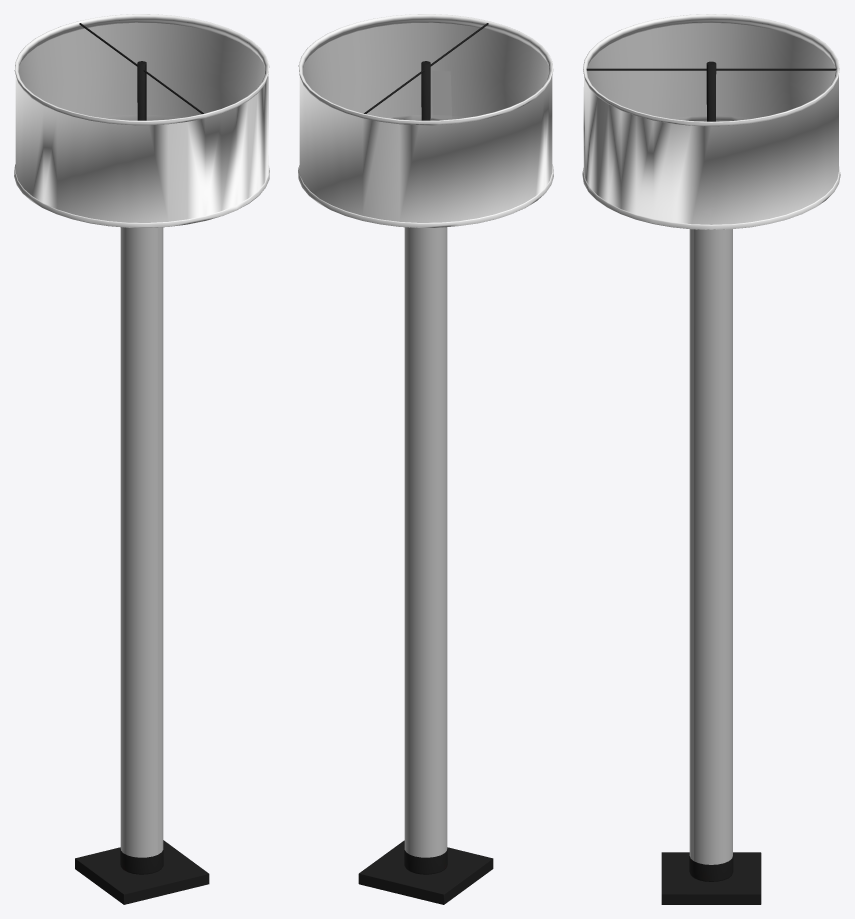
3 renders of one model, left to right at view 1: azimuth 30°, elevation 25°; view 2: azimuth 150°, elevation 25°; view 3: azimuth 270°, elevation 25°, orthographic.
Parts seen in each view (by area): view 1: "$AGAEMNKKMGBAAAAAICBAAAAAAAAAJJNLHOOE"; view 2: "$AGAEMNKKMGBAAAAAICBAAAAAAAAAJJNLHOOE"; view 3: "$AGAEMNKKMGBAAAAAICBAAAAAAAAAJJNLHOOE".
Boxes of the visible parts, x1,y1,x2,y2 form: "$AGAEMNKKMGBAAAAAICBAAAAAAAAAJJNLHOOE": (14,14,269,904); "$AGAEMNKKMGBAAAAAICBAAAAAAAAAJJNLHOOE": (298,14,553,904); "$AGAEMNKKMGBAAAAAICBAAAAAAAAAJJNLHOOE": (582,14,840,904).
Size of the model in its own units: 0.4197 by 1.48 by 0.4197.
1 material, 1 textured.
